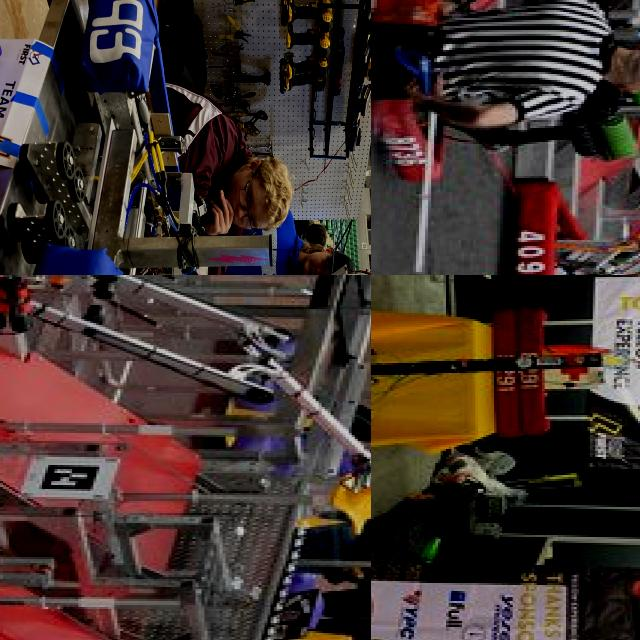FRC-Robots: (0, 275, 371, 566), (8, 0, 371, 275), (371, 275, 640, 544), (500, 52, 640, 275)
